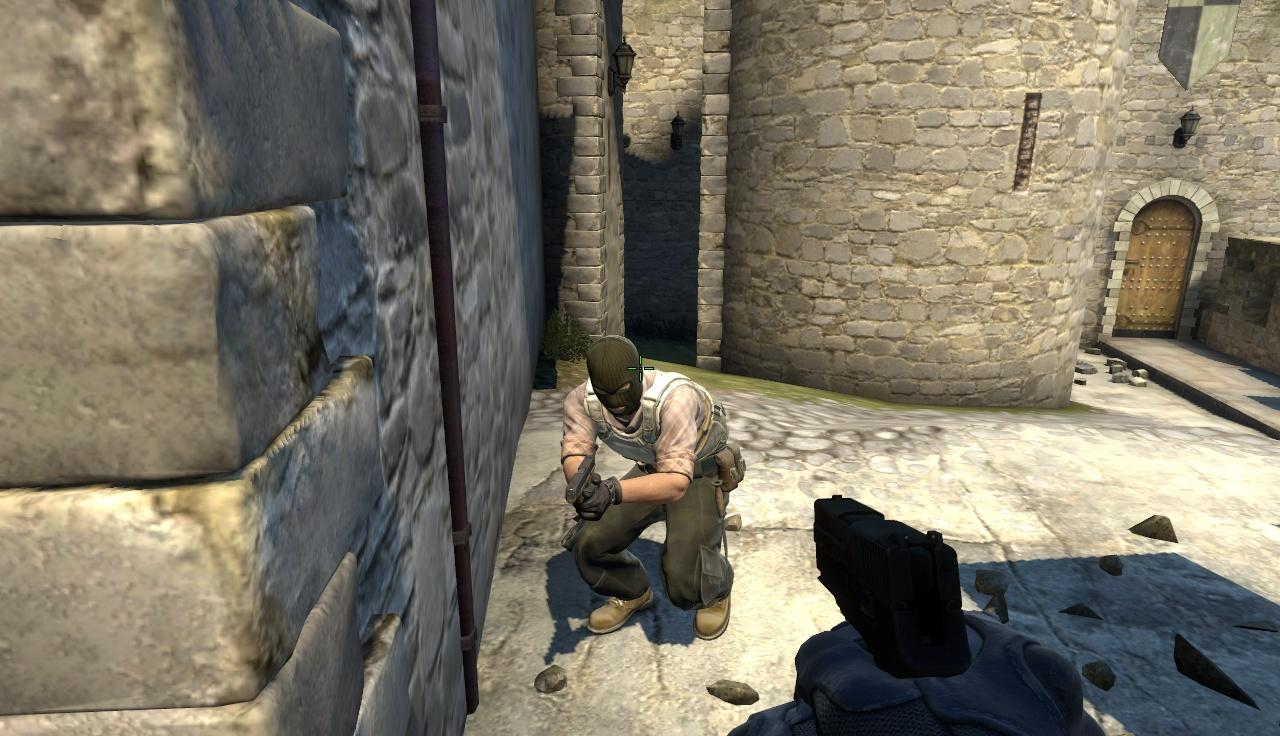pistol: (803, 496, 1070, 736)
tt: (554, 341, 724, 639)
tthead: (591, 338, 645, 411)
